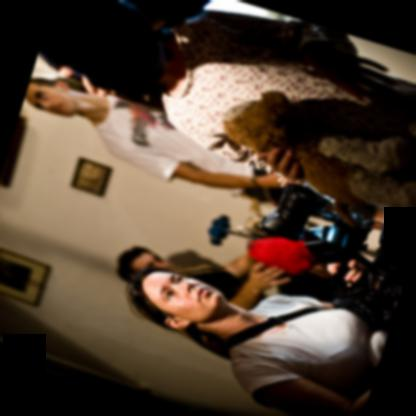handbag: (222, 283, 398, 350)
